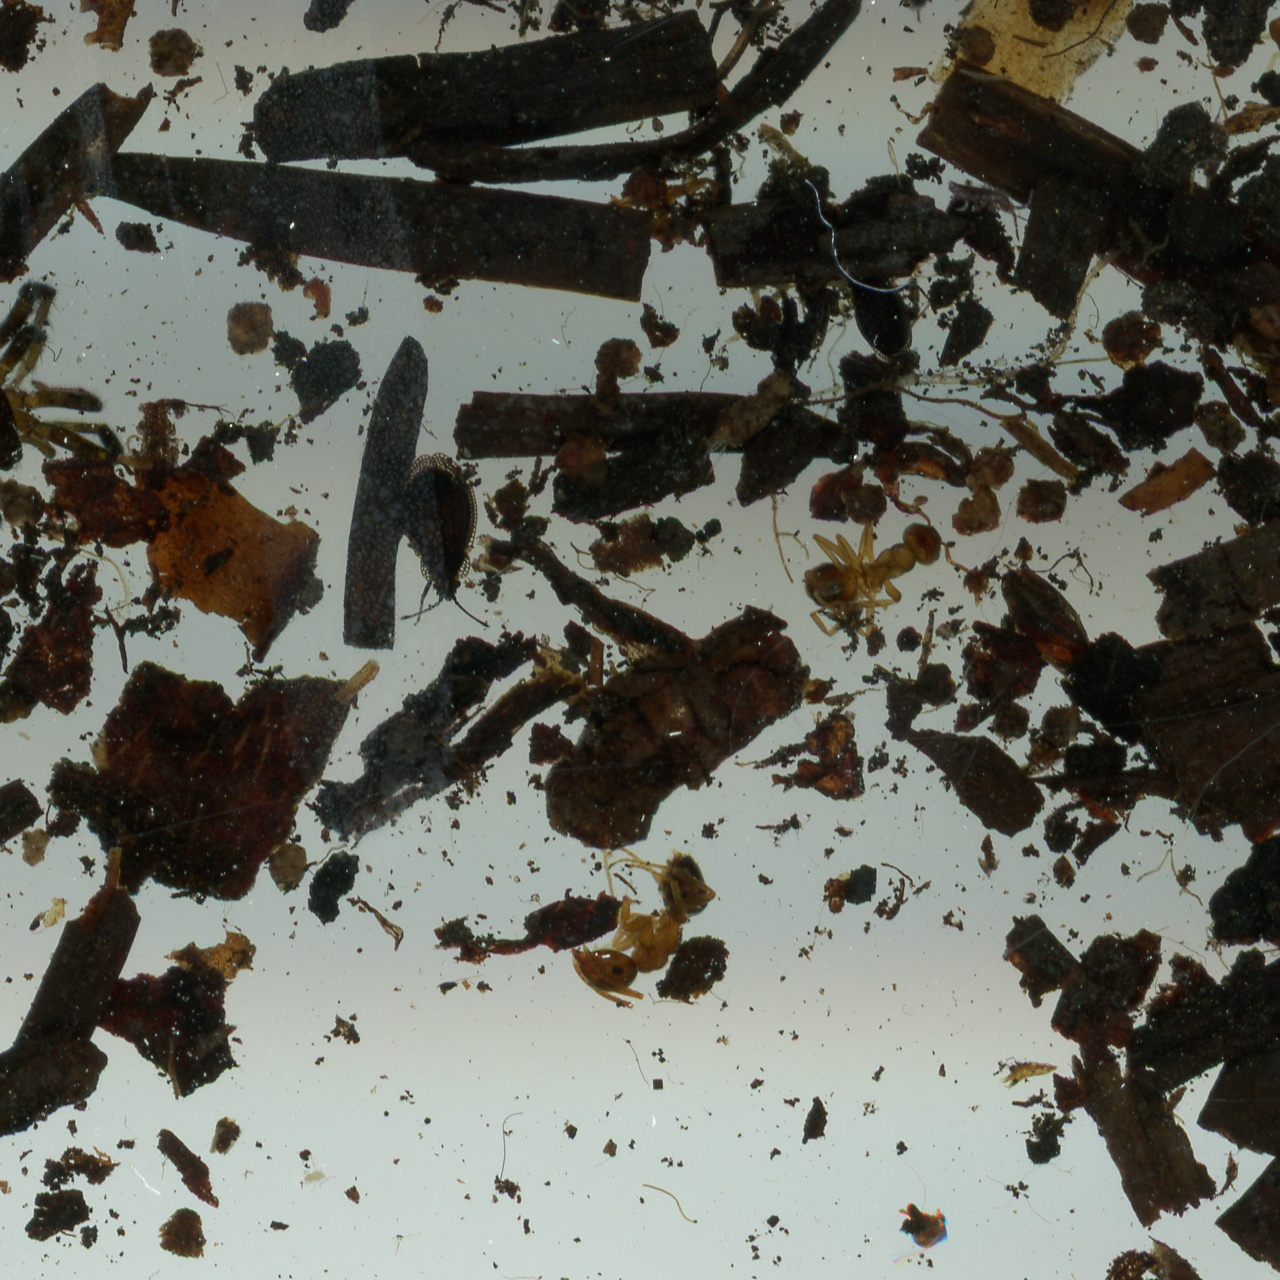arthropod: (0, 272, 122, 543), (568, 842, 720, 1010), (805, 516, 944, 642), (393, 455, 489, 626), (850, 271, 921, 373), (949, 178, 1036, 241), (1269, 9, 1280, 83)
